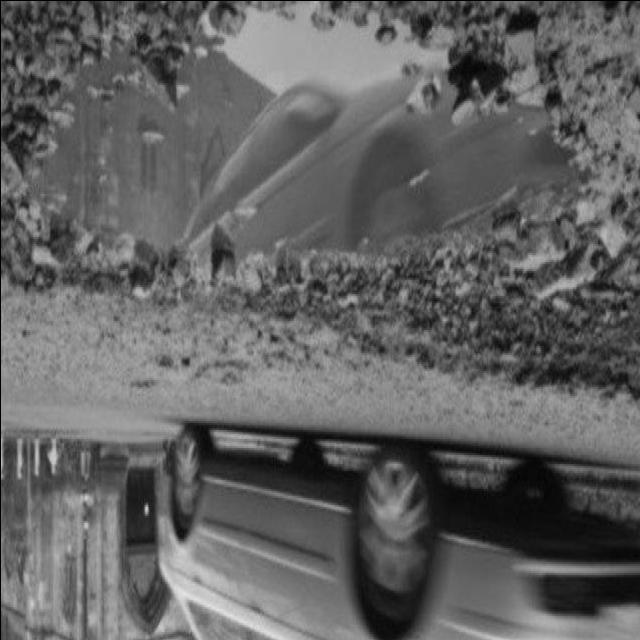lubang: (6, 16, 630, 392)
